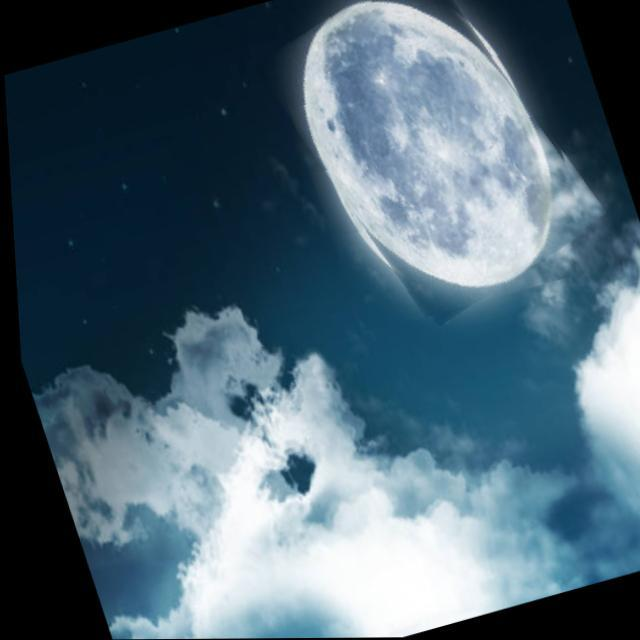moon: (256, 0, 602, 335)
